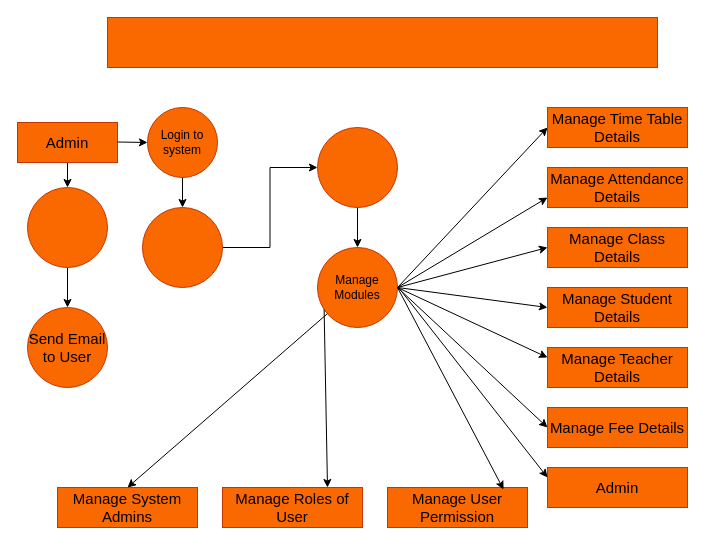
Some shapes in this 705 by 545 pixel diagram are drawn without their labels. Each missing label, with the box of its shape:
Check Credentials: (142, 206, 222, 288)
Check Roles Access: (316, 126, 398, 208)
Forgot PassWord: (26, 186, 108, 268)
Student Information System: (106, 16, 658, 68)
